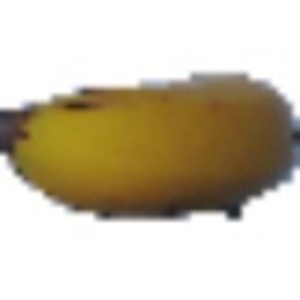banana: (2, 60, 298, 224)
